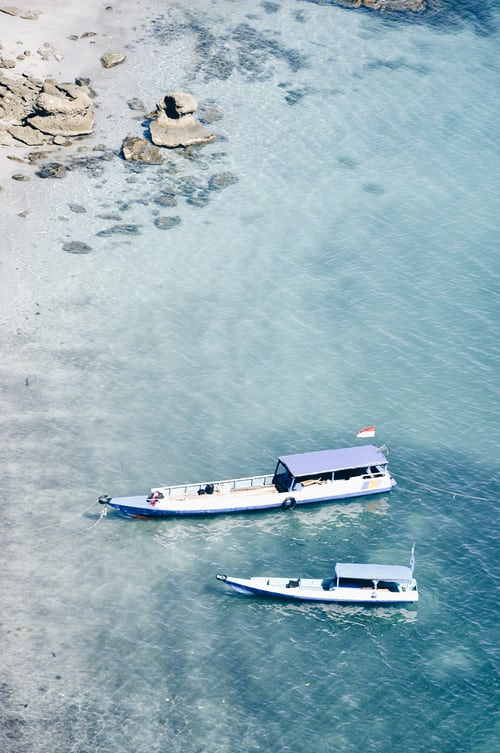yacht: (73, 429, 445, 525)
